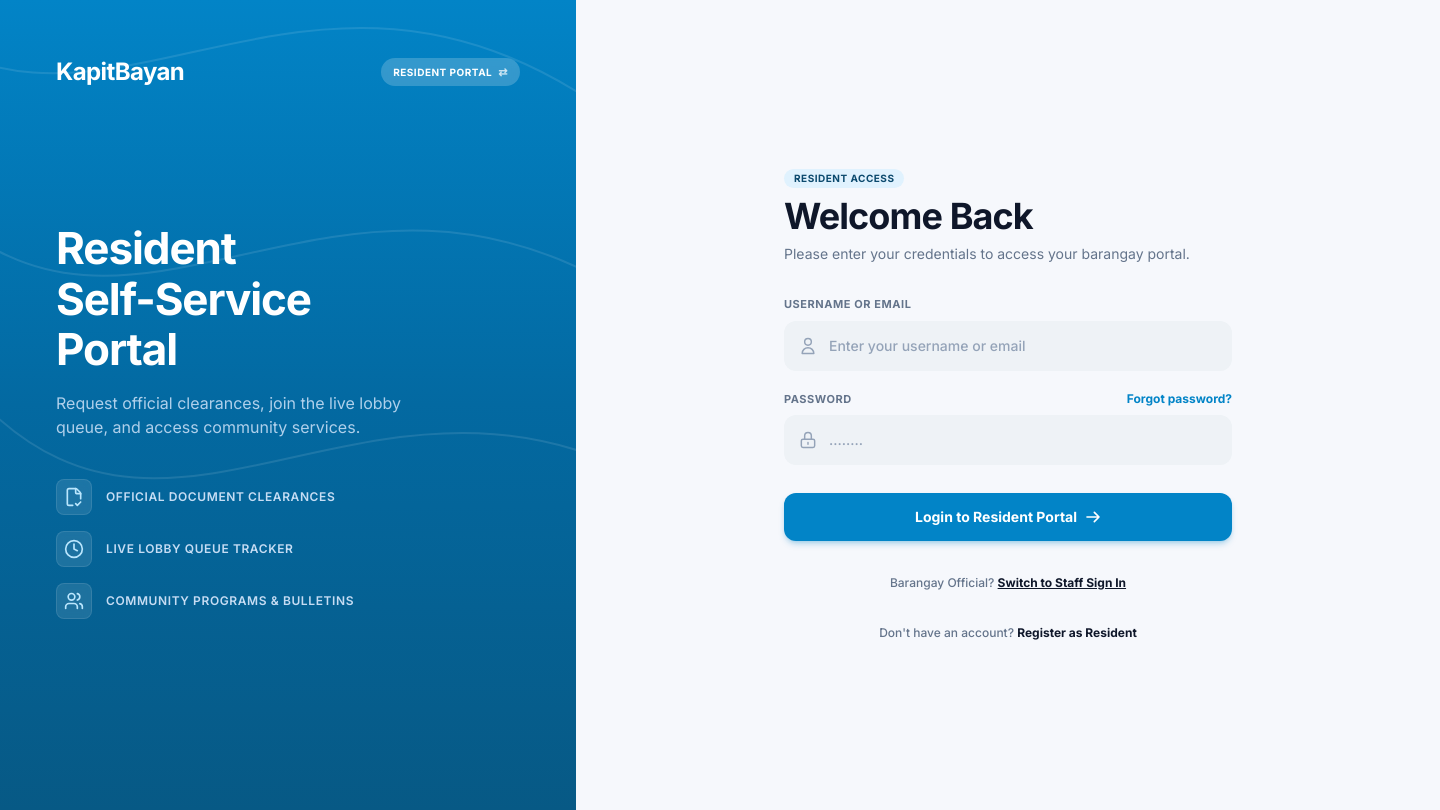
Test: web login role boundaries › rejects Field Official web login and clears the refresh session cookie
Click the button titled "Tap to switch between Citizen and Official mode" at (451, 72), box x1=381 y1=58 x2=520 y2=86
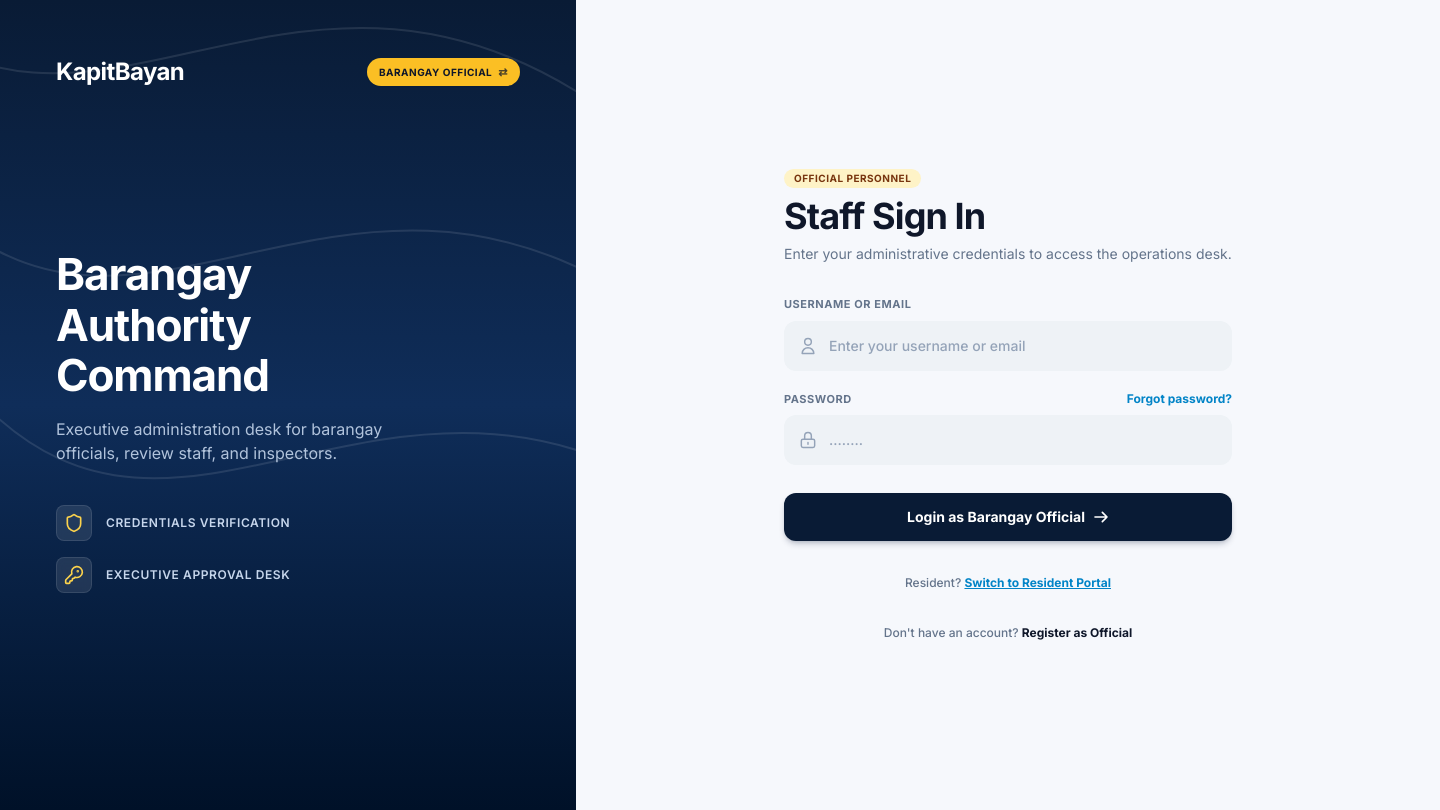
Type "field.staff@example.gov.ph" into the field with placeholder "Enter your username or email" at (1008, 346), box x1=784 y1=320 x2=1232 y2=370
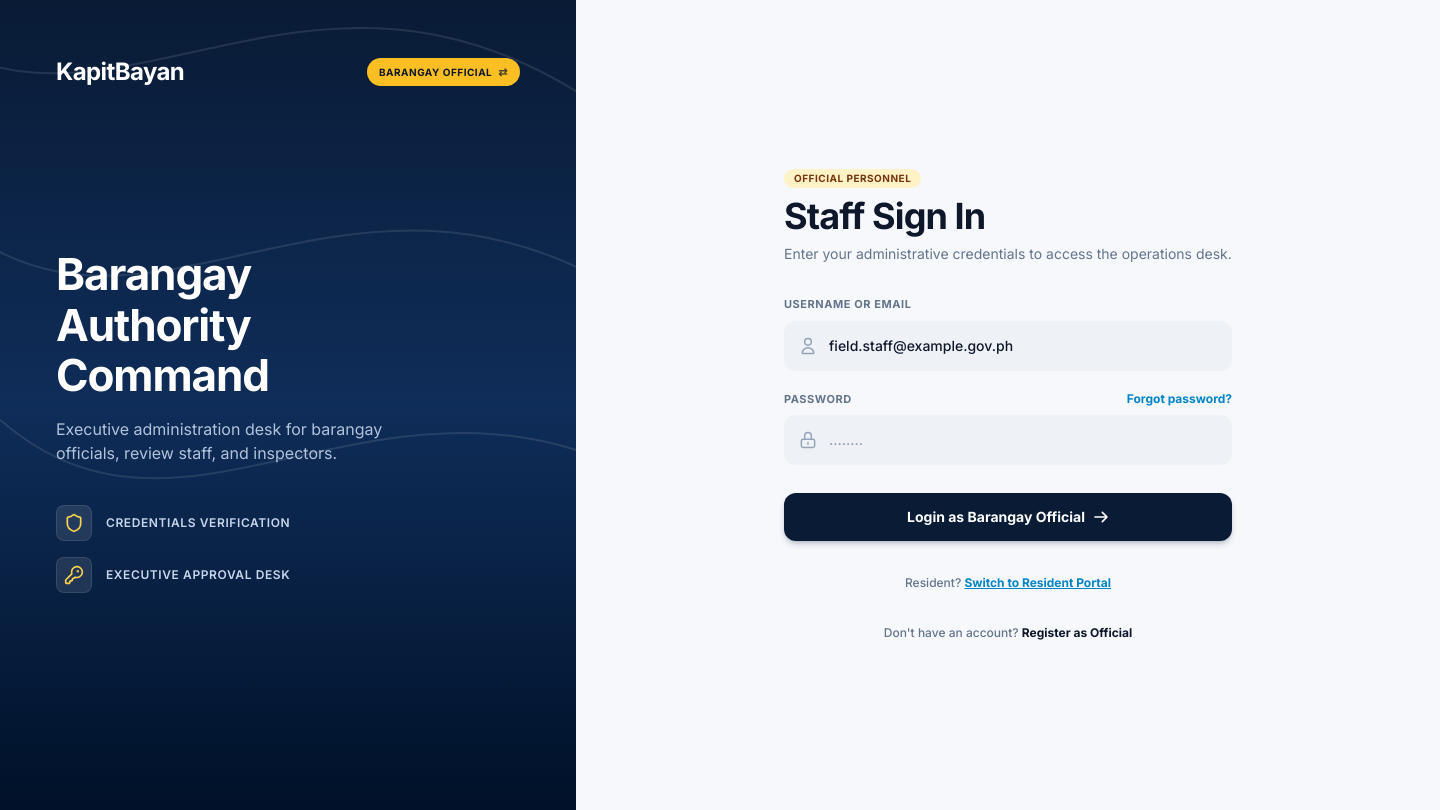
Type "not-a-web-password" into the password field with placeholder "........" at (1008, 440), box x1=784 y1=415 x2=1232 y2=465
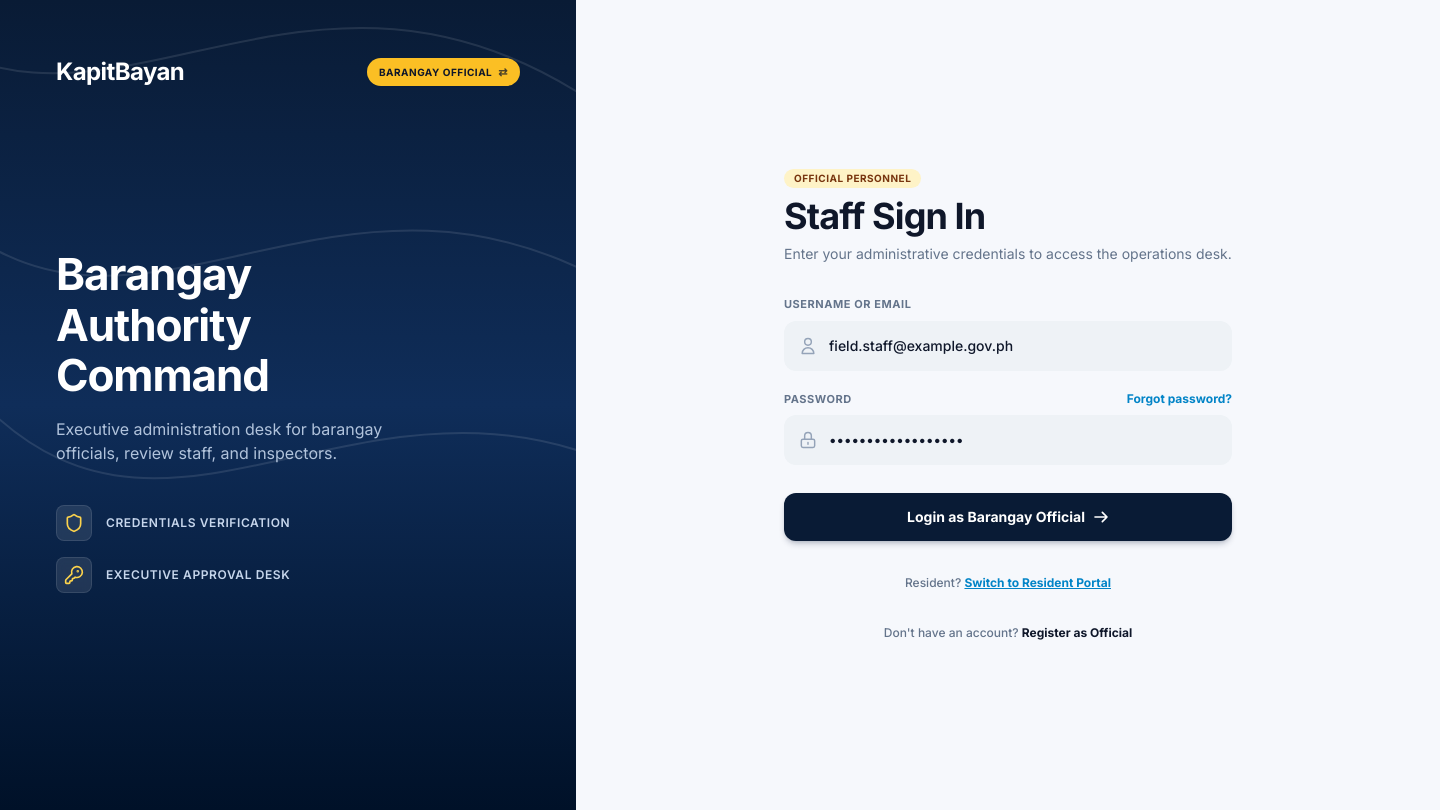
Click the button "Login as Barangay Official" at (1008, 517), box x1=784 y1=493 x2=1232 y2=541
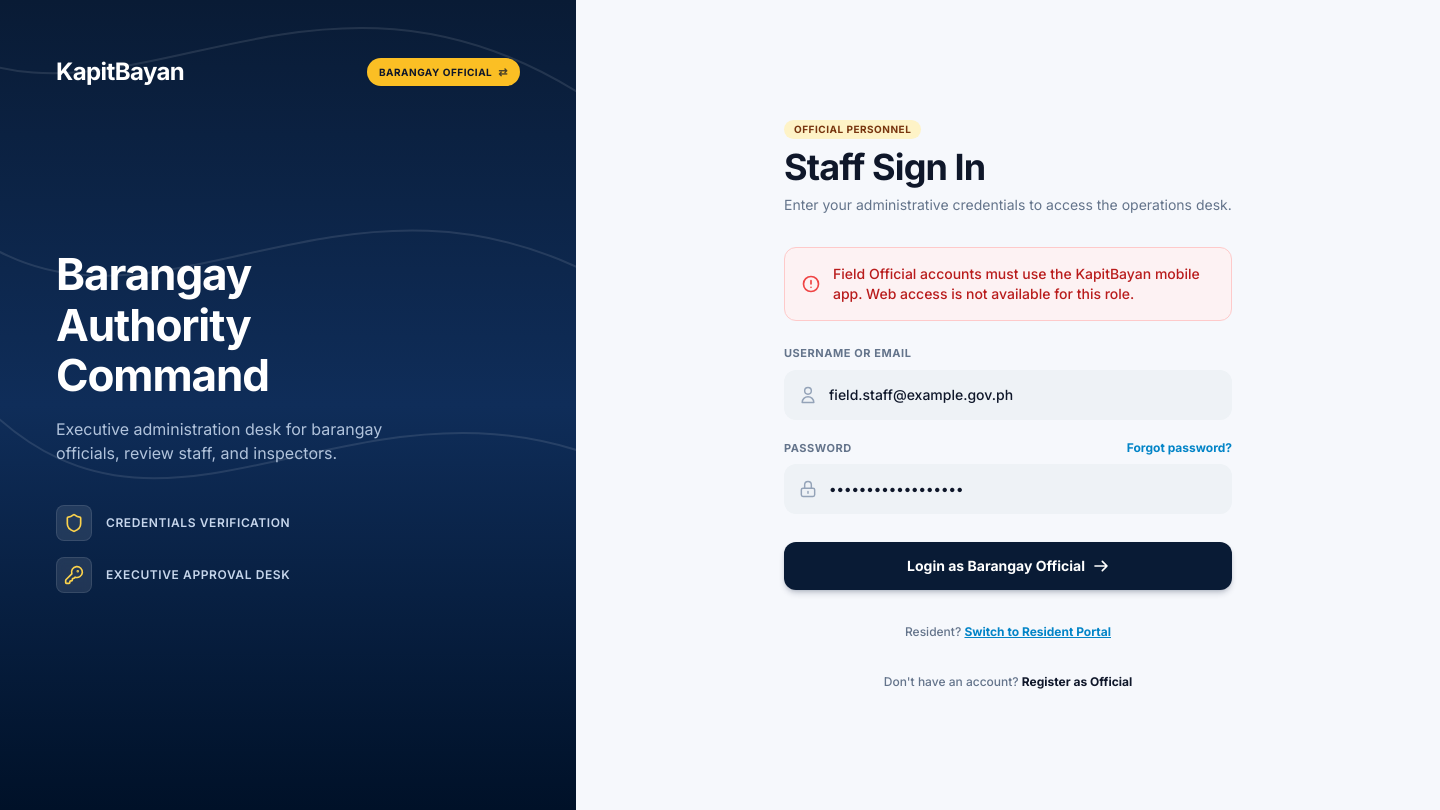
expect the text "must use the KapitBayan mobile app" is shown: met, box x1=833 y1=265 x2=1200 y2=302
